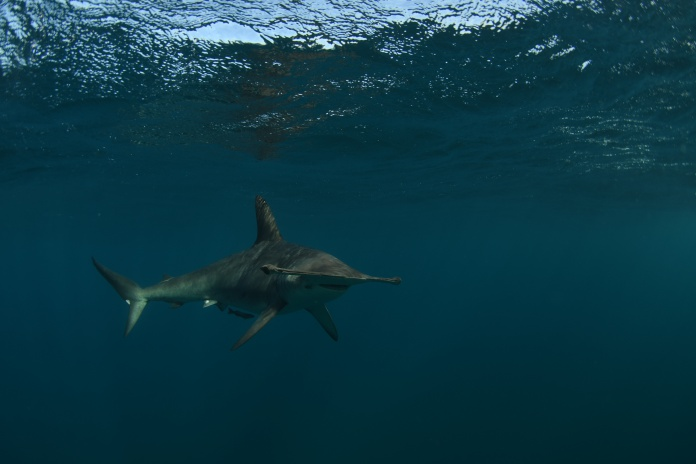Hammer: (78, 149, 565, 411)
